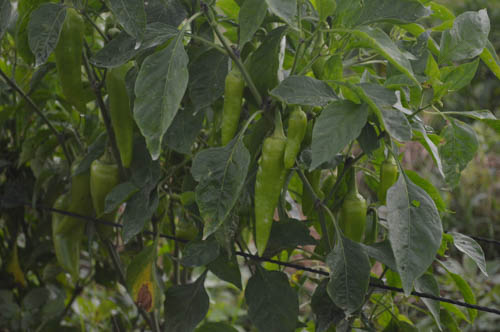ChiliPepper: (253, 137, 288, 253), (54, 14, 83, 105), (110, 71, 136, 163), (57, 158, 88, 235), (218, 74, 248, 147), (53, 201, 81, 276), (92, 164, 117, 225), (281, 114, 305, 172), (343, 196, 366, 245), (300, 168, 322, 213), (376, 162, 397, 194)
